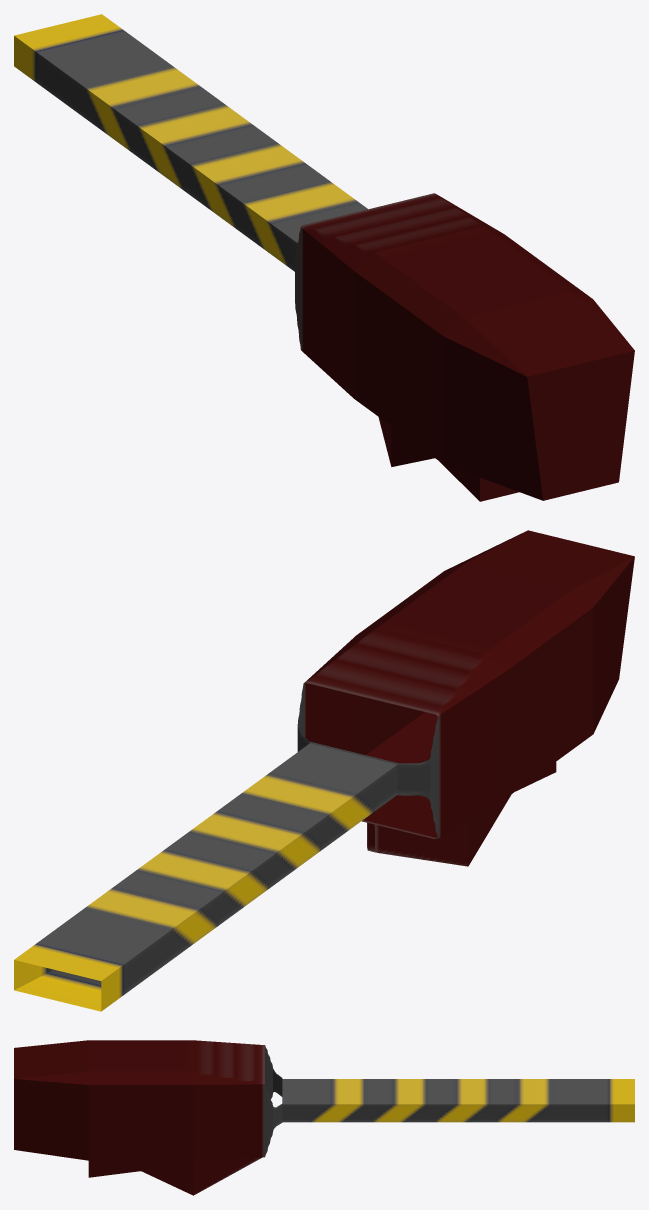
The model's file is blaster.fbx.
3 renders of one model, top to bottom at view 1: azimuth 30°, elevation 25°; view 2: azimuth 150°, elevation 25°; view 3: azimuth 270°, elevation 25°, orthographic. The views are drawn at different scales.
Parts seen in each view (by area): view 1: Cube; view 2: Cube; view 3: Cube.
Boxes of the visible parts, x1,y1,x2,y2 form: Cube: (14,14,634,501); Cube: (14,530,634,1011); Cube: (14,1040,634,1195).
Bounding box in the file's own units: 64.23 × 389 × 89.15.
